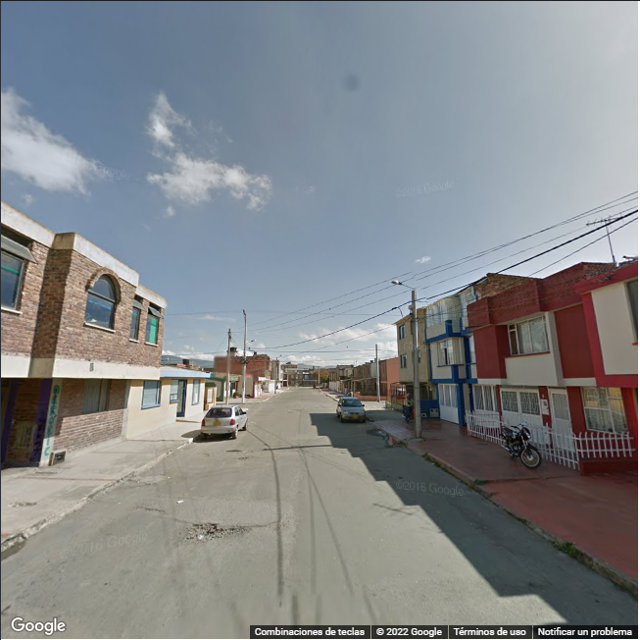D00: (543, 554, 600, 599)
D40: (187, 515, 248, 543)
